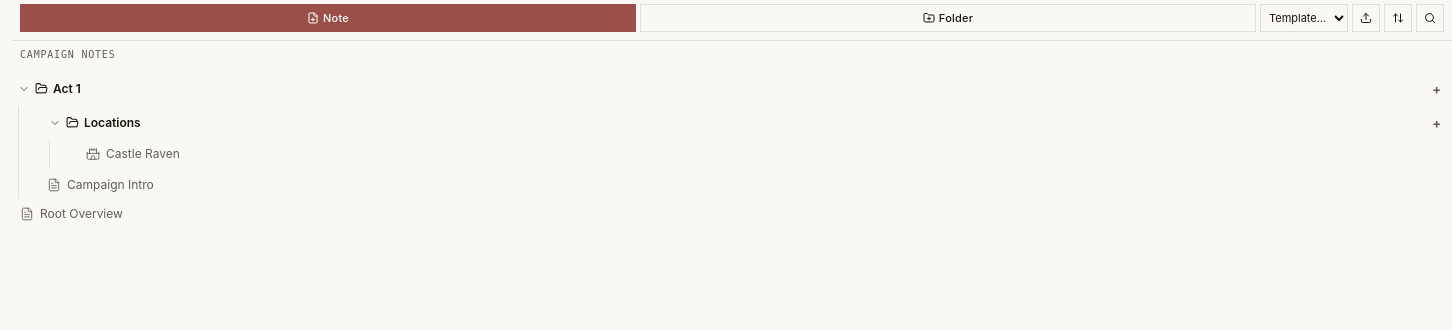
Test: VaultTree Component › bulk selection (F4.2) › clears the selection from the action bar
This screenshot has width=1452, height=330.
Click the button with test id "tree-note-note-1" at (100, 184), box top-left (47, 177), bottom-right (154, 192)
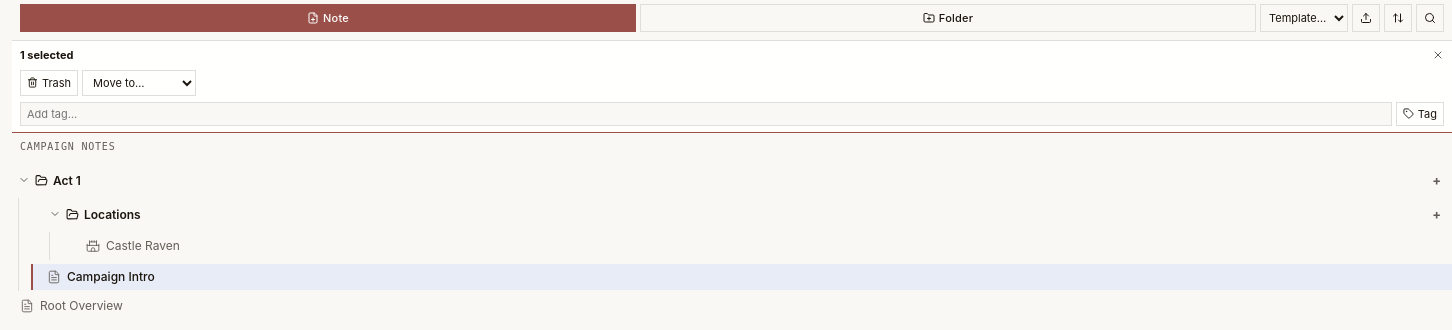
Result: the text "1 selected" is shown at top-left (20, 47), bottom-right (74, 64)
Click the button named "Clear selection" at (1438, 55), box top-left (1432, 49), bottom-right (1444, 61)
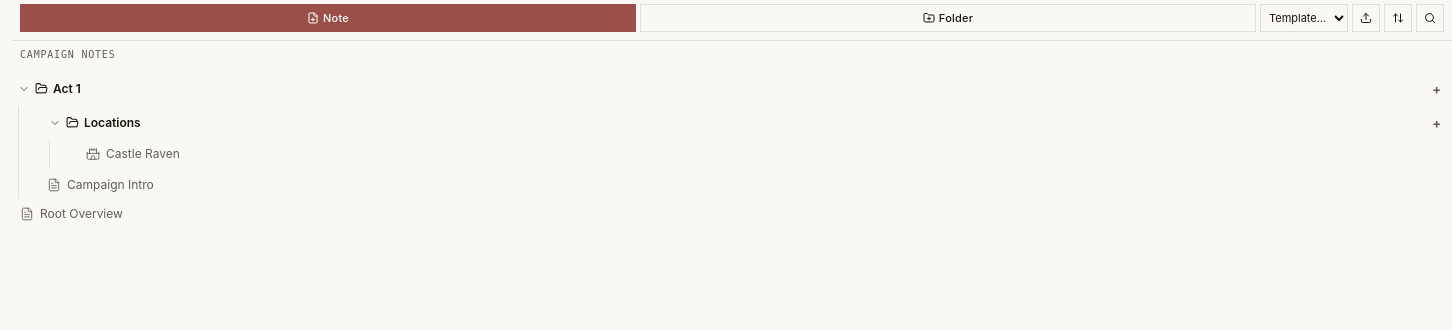
Result: the text "1 selected" is gone
